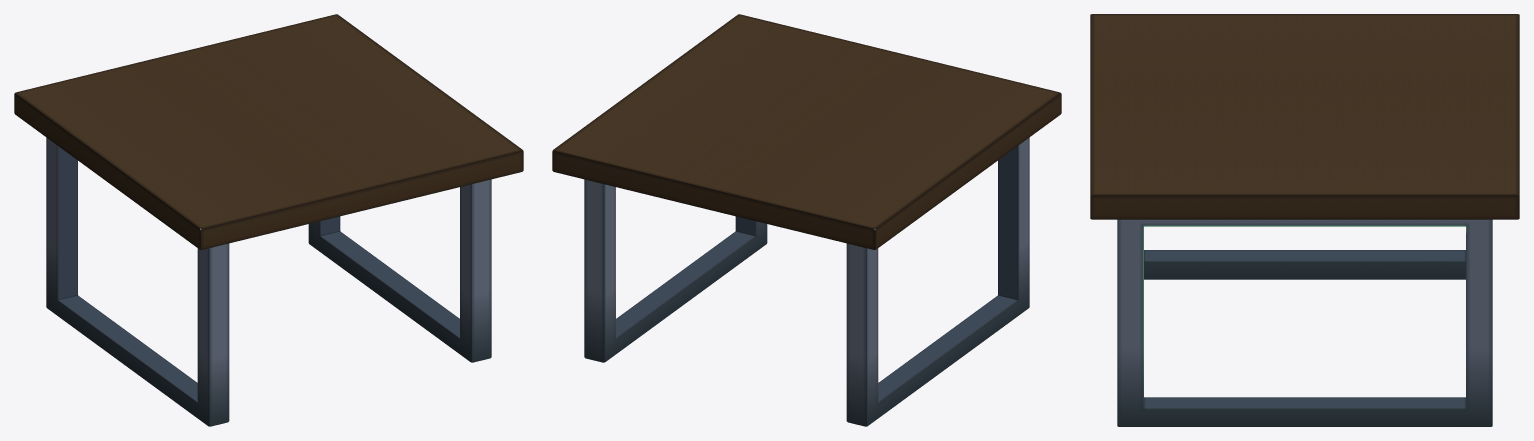
Rendered from MassHallTable.obj.
3 views of the same model, side by side, from view 1: azimuth 30°, elevation 25°; view 2: azimuth 150°, elevation 25°; view 3: azimuth 270°, elevation 25° (orthographic). The views are drawn at different scales.
Visible parts, largest first — view 1: Table; view 2: Table; view 3: Table.
Part boxes in pixels (box(x1,y1,x2,y2)): Table: box(14, 14, 523, 426); Table: box(552, 14, 1061, 426); Table: box(1090, 14, 1519, 426).
Size of the model in its own units: 1 by 0.625 by 1.
